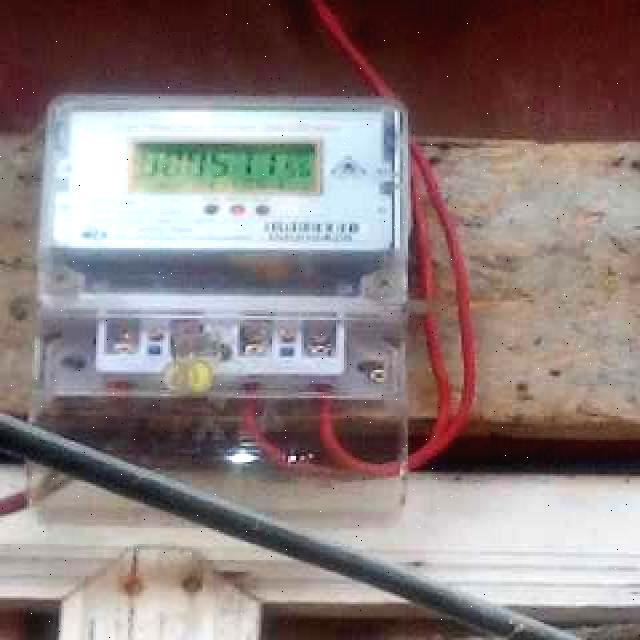LCD: (127, 134, 335, 203)
